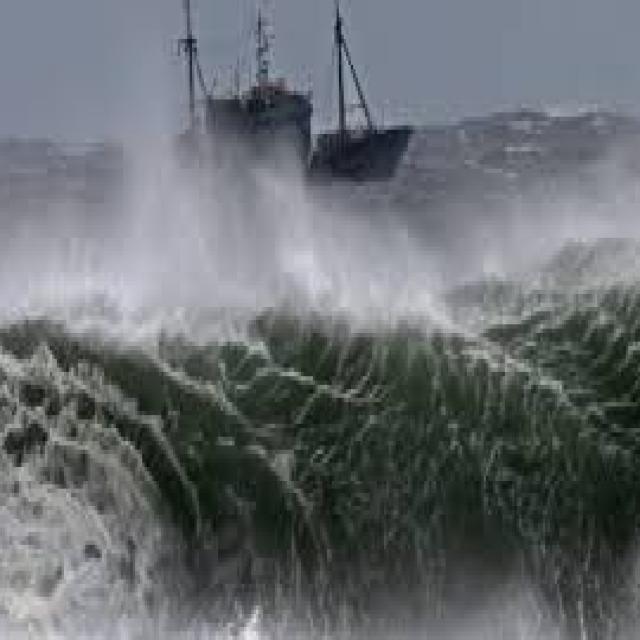fishing boat: (166, 0, 415, 208)
